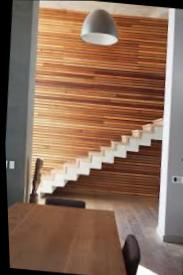Bench: (27, 107, 163, 214)
